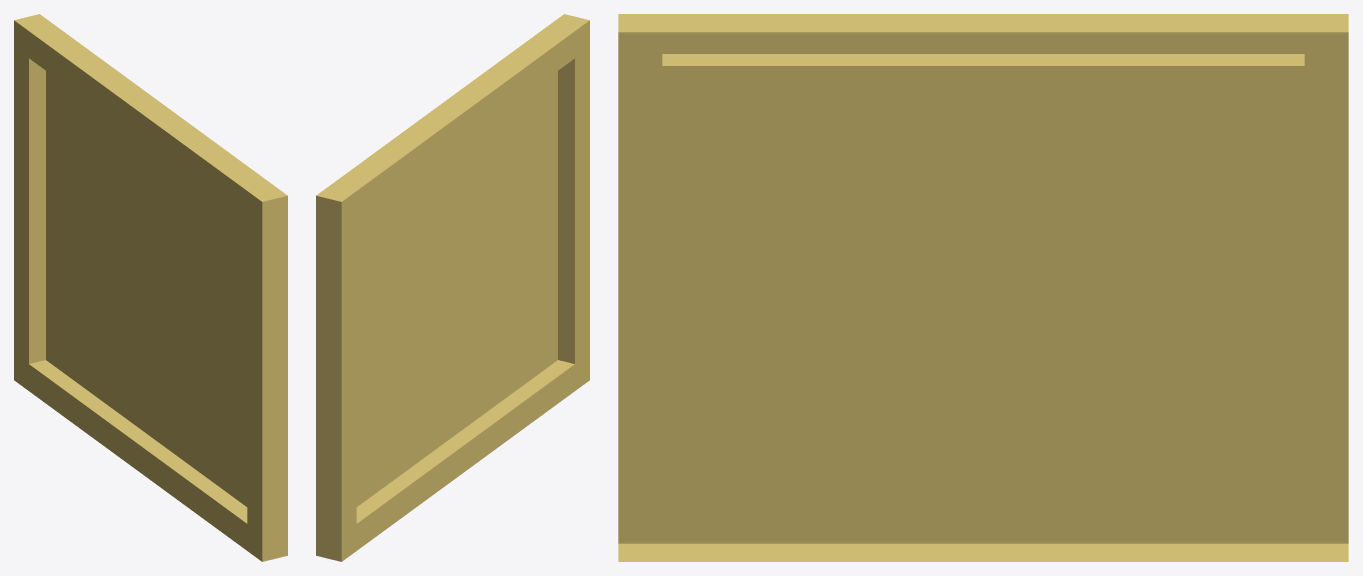
Rendered from Tele.fbx.
The picture shows the model from 3 angles, left to right: view 1: azimuth 30°, elevation 25°; view 2: azimuth 150°, elevation 25°; view 3: azimuth 270°, elevation 25°; orthographic projection. The views are drawn at different scales.
Parts seen in each view (by area): view 1: Plane.001; view 2: Plane.001; view 3: Plane.001.
Part boxes in pixels (bbox=[...]): Plane.001: bbox=[14, 14, 287, 561]; Plane.001: bbox=[316, 14, 589, 561]; Plane.001: bbox=[618, 14, 1348, 561].
Bounding box in the file's own units: 24.68 × 331 × 414.
